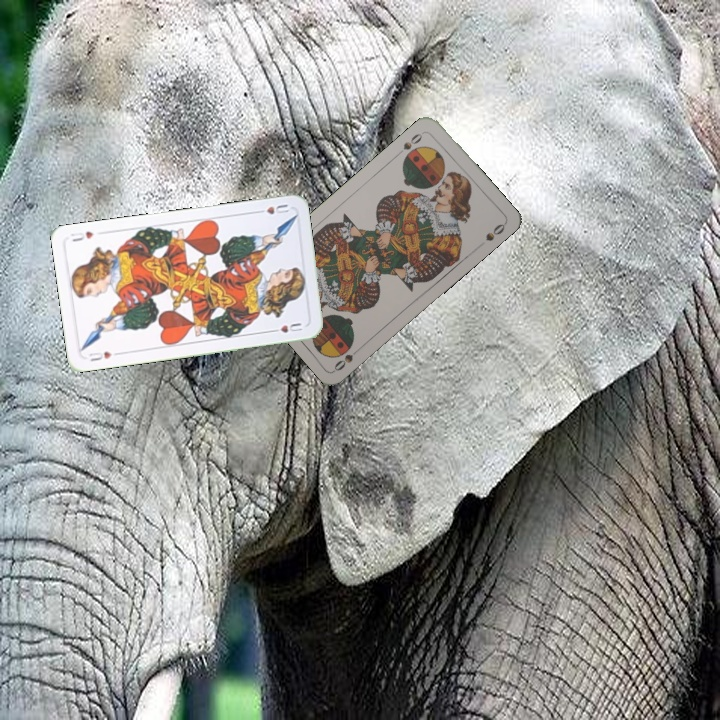HU: (252, 200, 291, 217), (85, 347, 122, 364)
SO: (330, 342, 365, 374), (393, 127, 428, 158)
